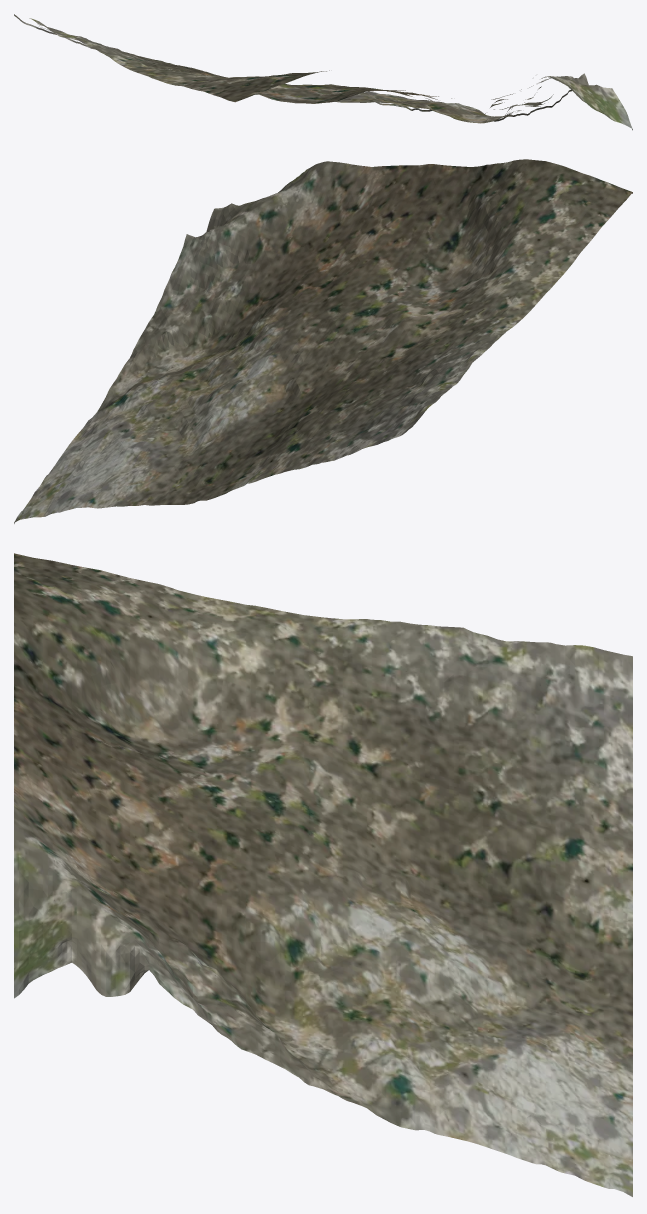
3 views of the same model, one above another, from view 1: azimuth 30°, elevation 25°; view 2: azimuth 150°, elevation 25°; view 3: azimuth 270°, elevation 25° (orthographic). The views are drawn at different scales.
Bounding box in the file's own units: 250 × 167 × 241.
Materials: 1 (1 with a texture image).
